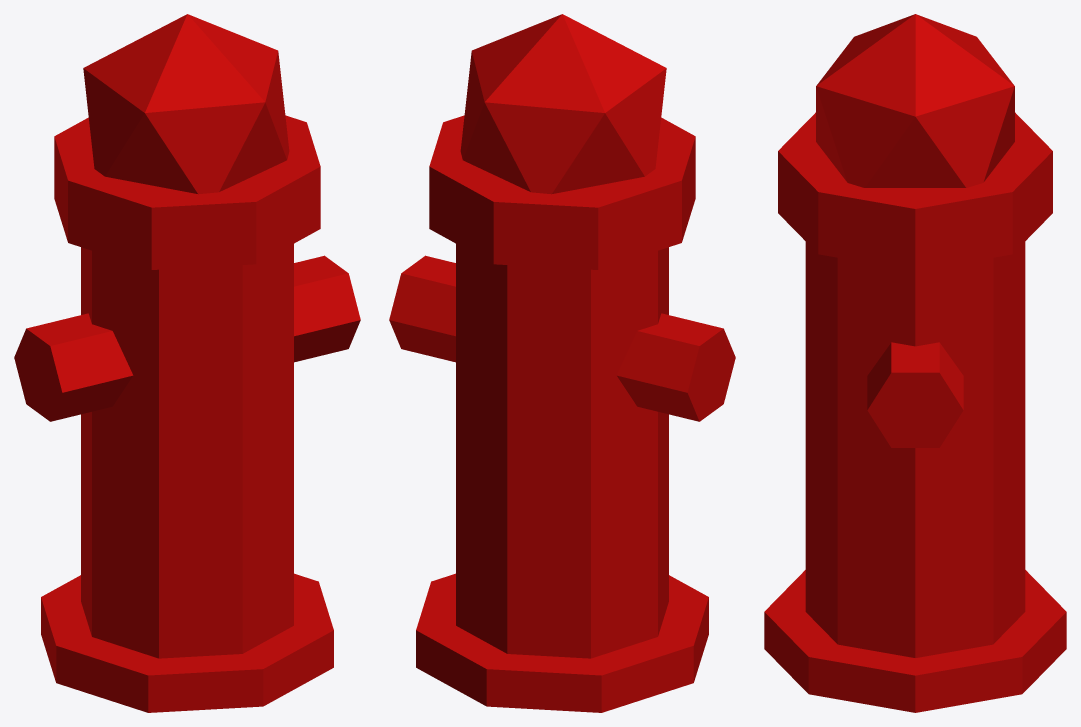
File: fire_hydrant.obj
The picture shows the model from 3 angles, left to right: view 1: azimuth 30°, elevation 25°; view 2: azimuth 150°, elevation 25°; view 3: azimuth 270°, elevation 25°; orthographic projection.
Parts seen in each view (by area): view 1: fire_hydrant; view 2: fire_hydrant; view 3: fire_hydrant.
Part boxes in pixels (x1,y1,x2,y2): fire_hydrant: (14,14,360,712); fire_hydrant: (389,14,735,712); fire_hydrant: (764,14,1066,712).
Size of the model in its own units: 0.5 by 1.02 by 0.44.
